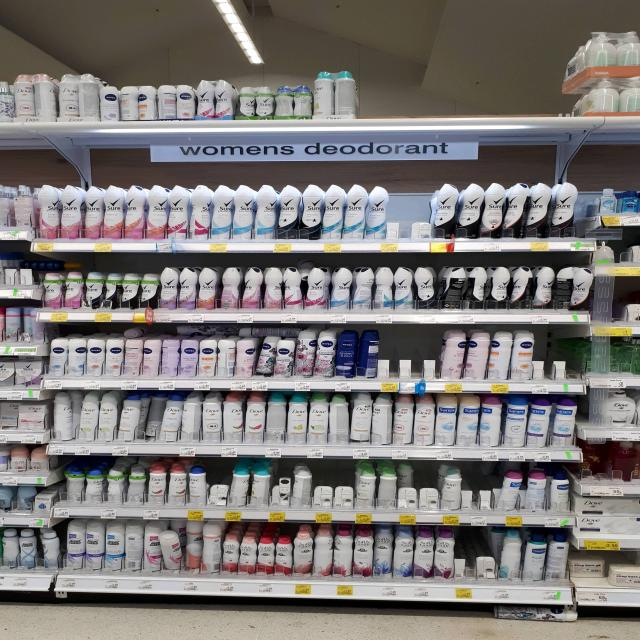void: (518, 62, 560, 124), (395, 174, 428, 252), (439, 62, 478, 126), (457, 528, 490, 600), (541, 327, 574, 395), (400, 64, 436, 126), (480, 62, 514, 126), (362, 65, 397, 127), (312, 465, 349, 522), (409, 324, 439, 393), (384, 323, 408, 392)
